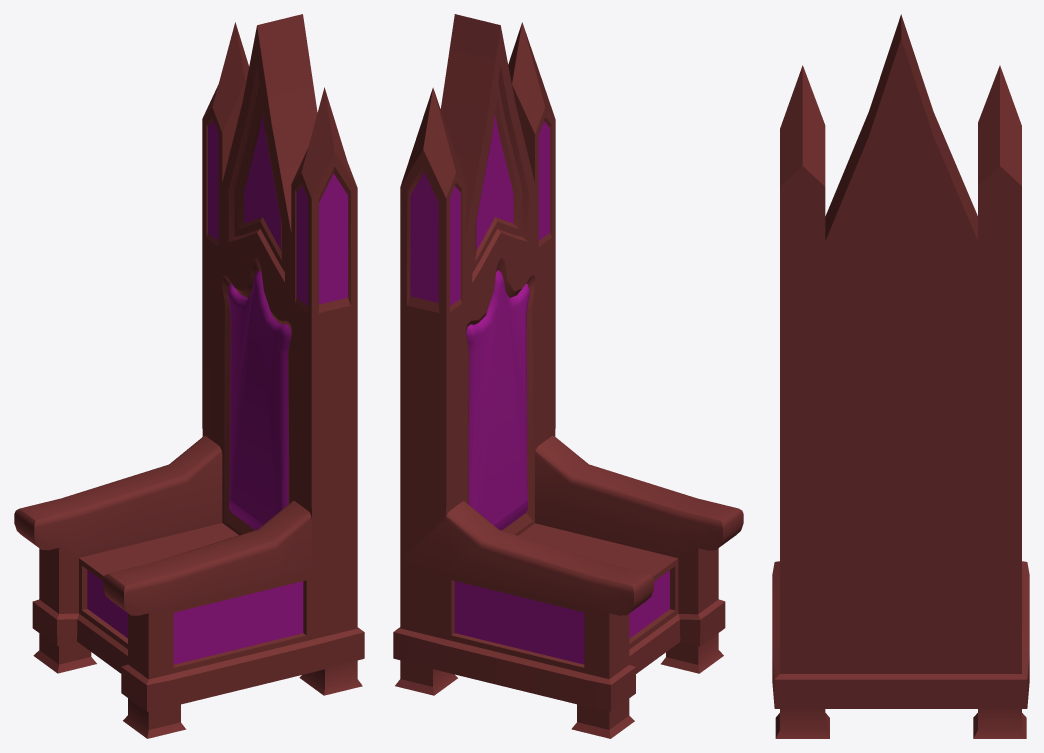
File: KingChair.fbx
3 views of the same model, side by side, from view 1: azimuth 30°, elevation 25°; view 2: azimuth 150°, elevation 25°; view 3: azimuth 270°, elevation 25° (orthographic). The views are drawn at different scales.
Parts seen in each view (by area): view 1: KingChair; view 2: KingChair; view 3: KingChair.
Boxes of the visible parts, x1=… form: KingChair: x1=14, y1=14, x2=364, y2=738; KingChair: x1=393, y1=14, x2=743, y2=738; KingChair: x1=772, y1=14, x2=1029, y2=738.
Bounding box in the file's own units: 79.1 × 200 × 66.92.
